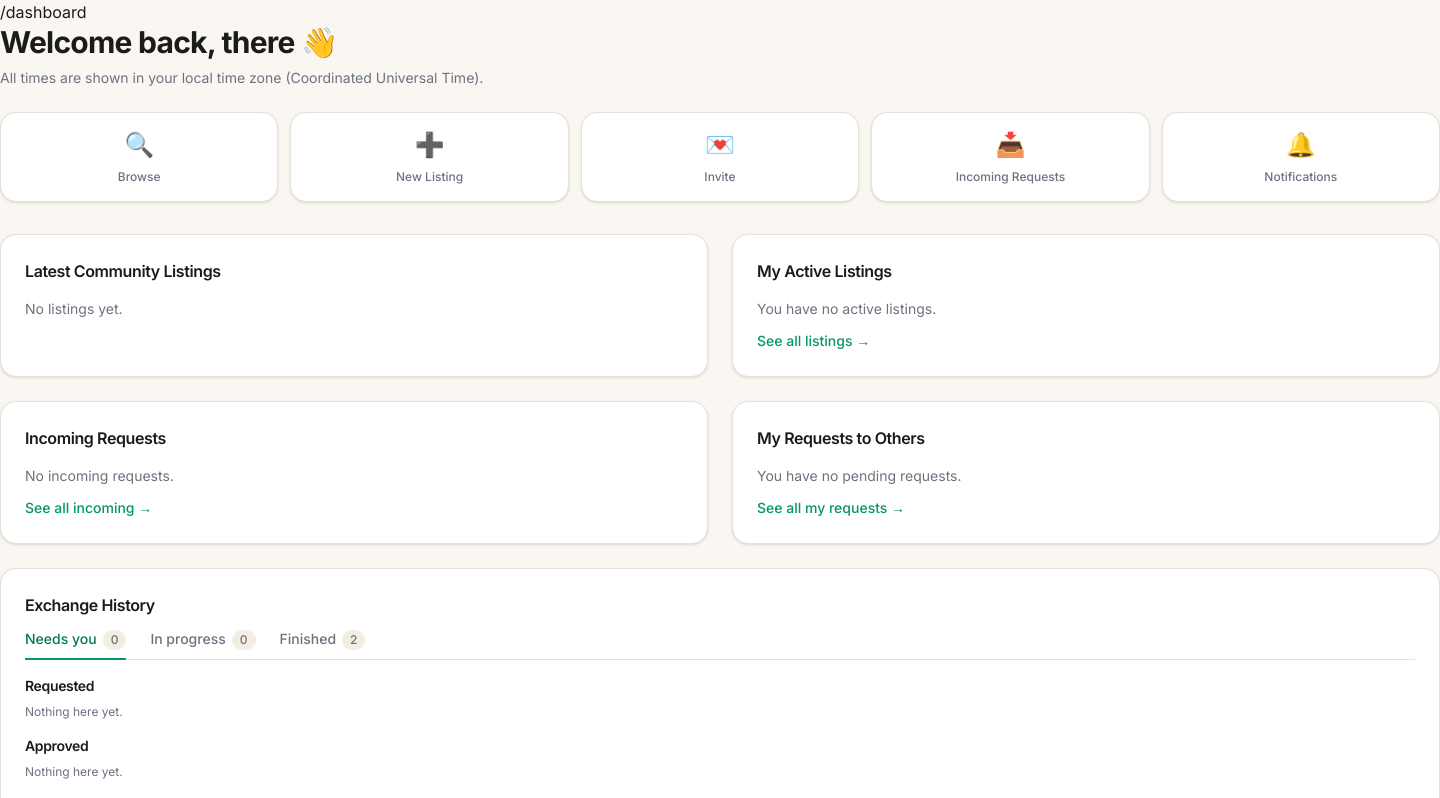
it: a withdrawn row sits in its own Finished group, apart from a cancelled one
This screenshot has width=1440, height=798.
Expected: the tab "Needs you 0" is shown, x1=25 y1=629 x2=126 y2=660
Click the tab "Finished 2" at point(322, 644), box x1=280 y1=629 x2=366 y2=660
(page scrolled)
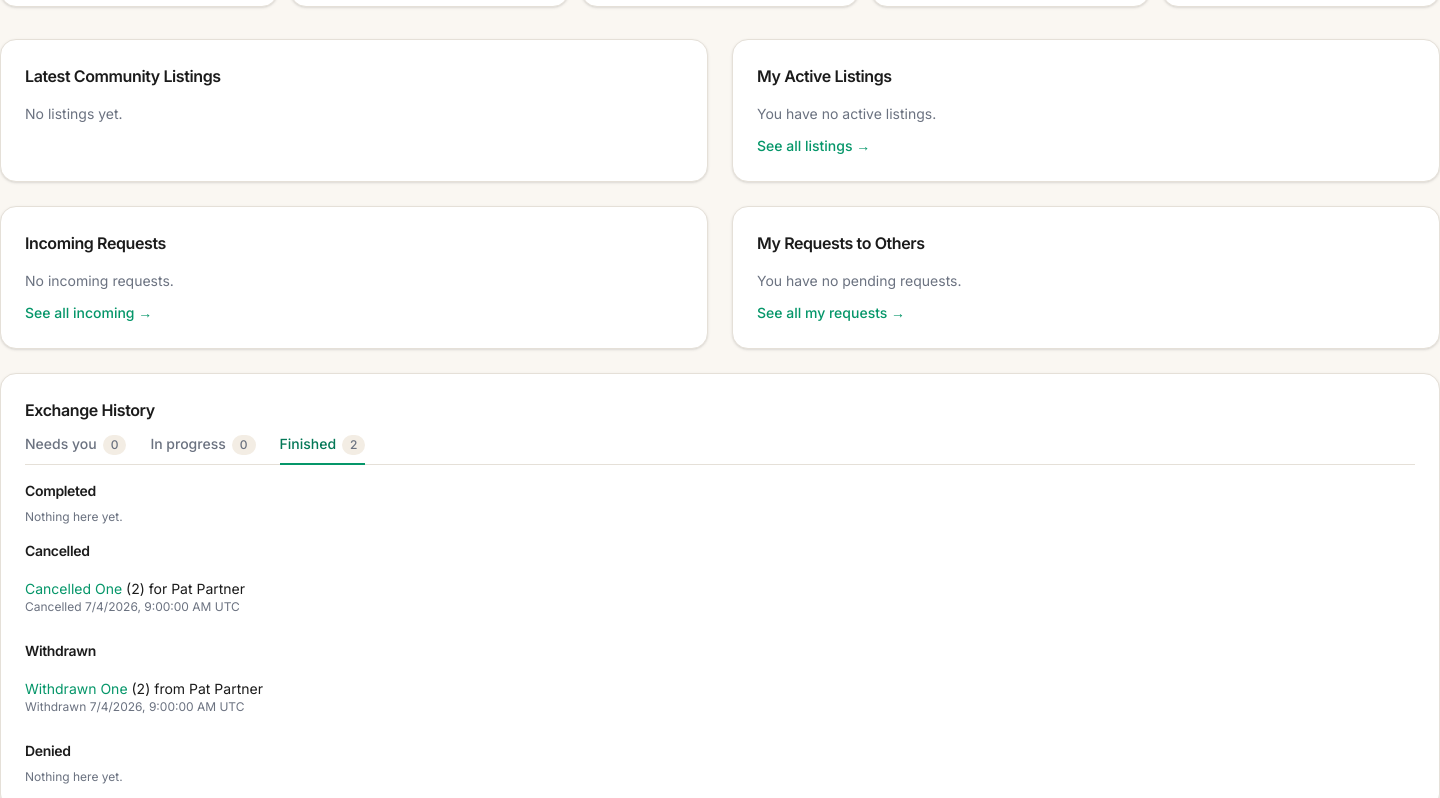
Expected: the headings read "Completed", "Cancelled", "Withdrawn", "Denied", in this order, x1=25 y1=482 x2=96 y2=499; x1=25 y1=542 x2=90 y2=559; x1=25 y1=642 x2=96 y2=659; x1=25 y1=742 x2=70 y2=759
Expected: the number of list items is 2, x1=25 y1=580 x2=245 y2=614; x1=25 y1=680 x2=263 y2=714
Expected: the list item that starts with "Cancelled One" is shown, x1=25 y1=580 x2=122 y2=597
